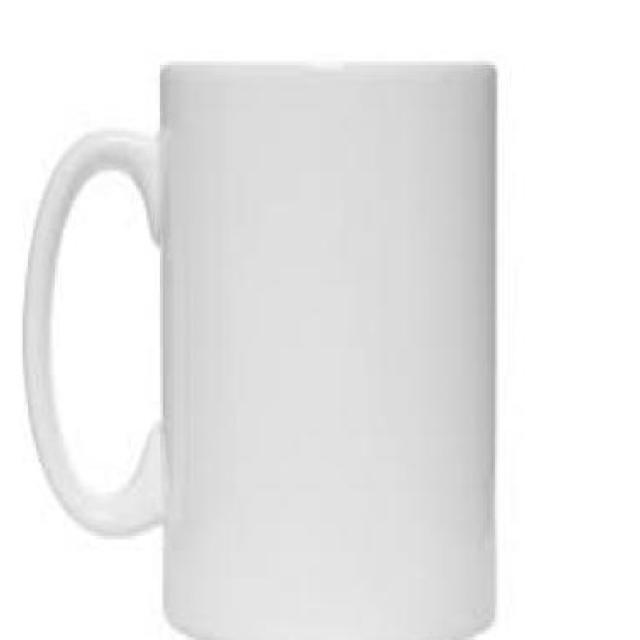cup: (15, 51, 503, 639)
